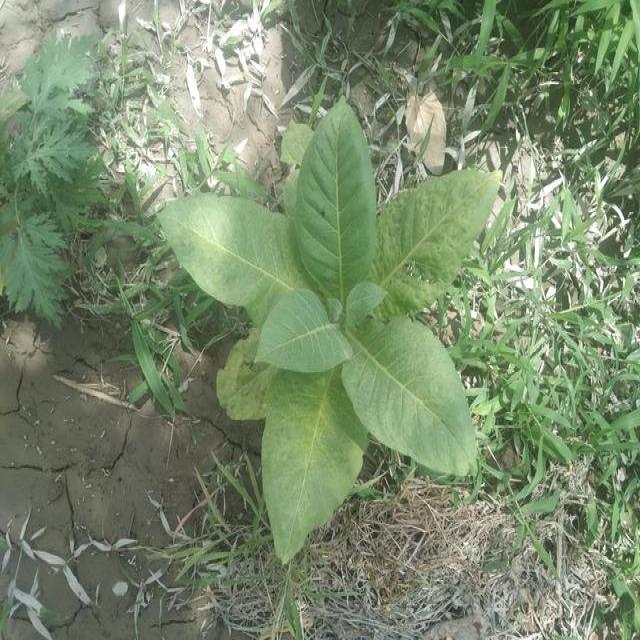crop: (169, 99, 498, 550)
